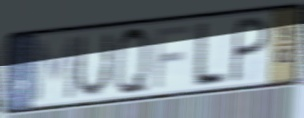F: (152, 23, 192, 91)
L: (189, 18, 228, 90)
M: (31, 33, 79, 105)
P: (227, 13, 272, 85)
Q: (113, 23, 151, 98)
U: (71, 28, 114, 101)
